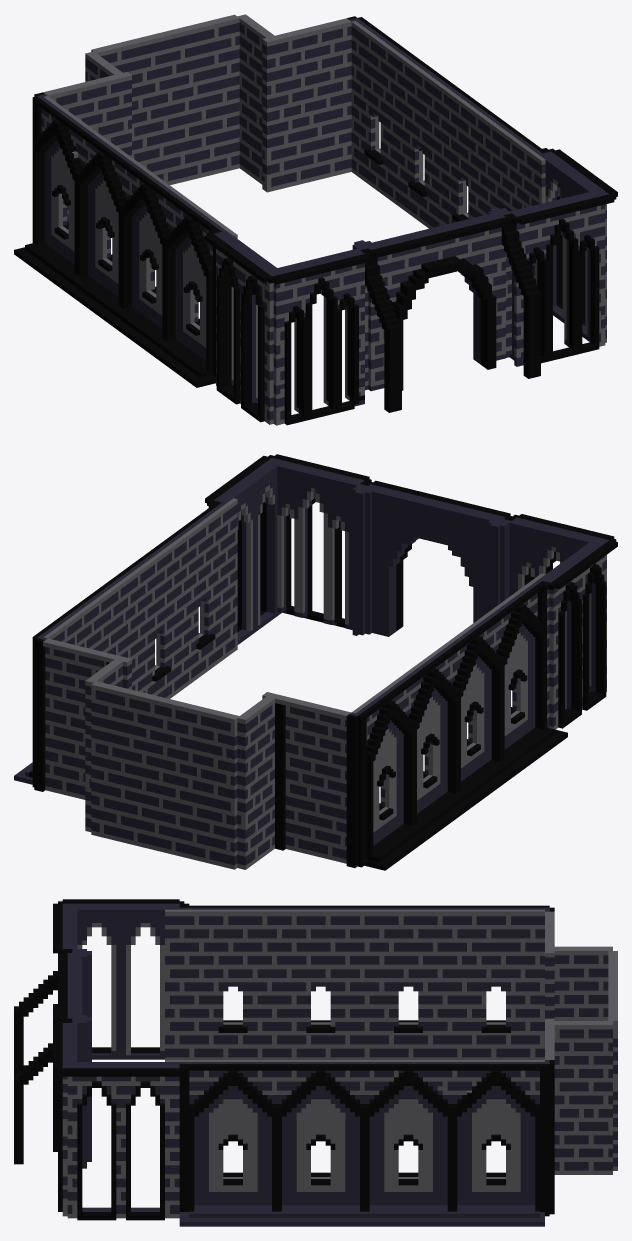
Rendered from church-83-ch_baselower.glb.
3 views of the same model, one above another, from view 1: azimuth 30°, elevation 25°; view 2: azimuth 150°, elevation 25°; view 3: azimuth 270°, elevation 25° (orthographic).
Visible parts, largest first — view 1: ch_baselower; view 2: ch_baselower; view 3: ch_baselower.
Boxes of the visible parts, left/top/right/bottom form: ch_baselower: left=14, top=14, right=617, bottom=425; ch_baselower: left=14, top=454, right=617, bottom=870; ch_baselower: left=14, top=899, right=617, bottom=1226.
Size of the model in its own units: 8.8 by 3.4 by 12.4.
1 material, 1 textured.
